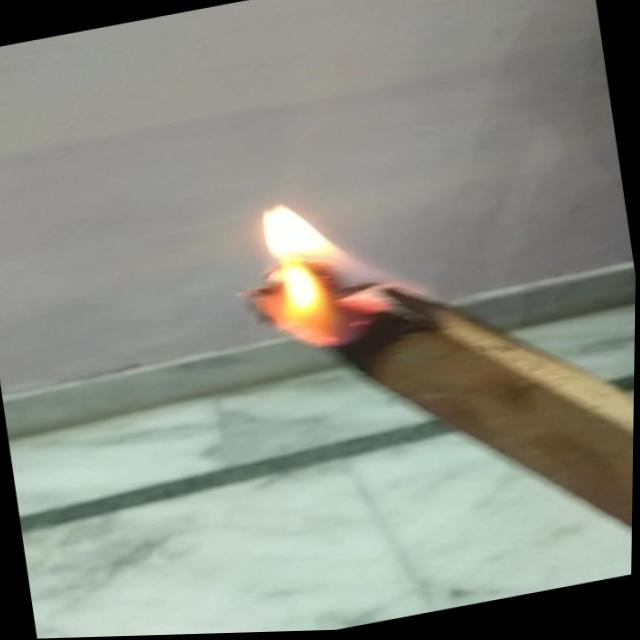fire: (202, 169, 448, 382)
